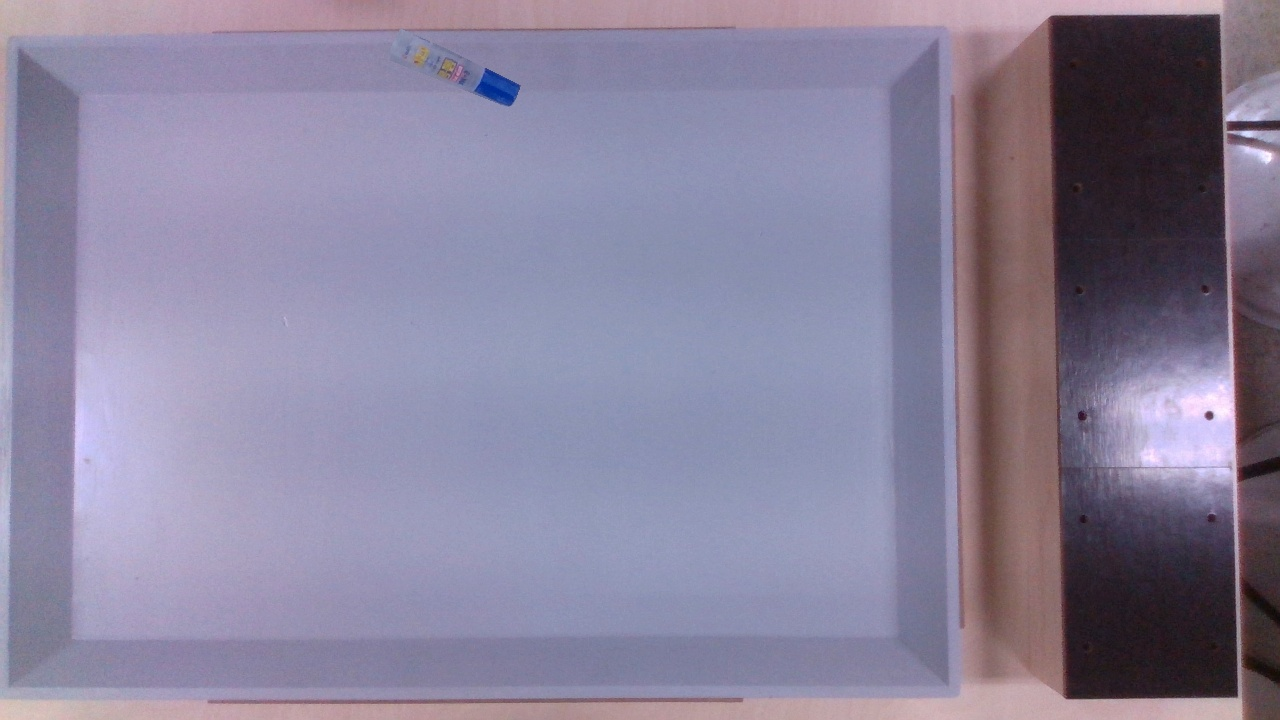Glue_pen: (390, 28, 520, 107)
